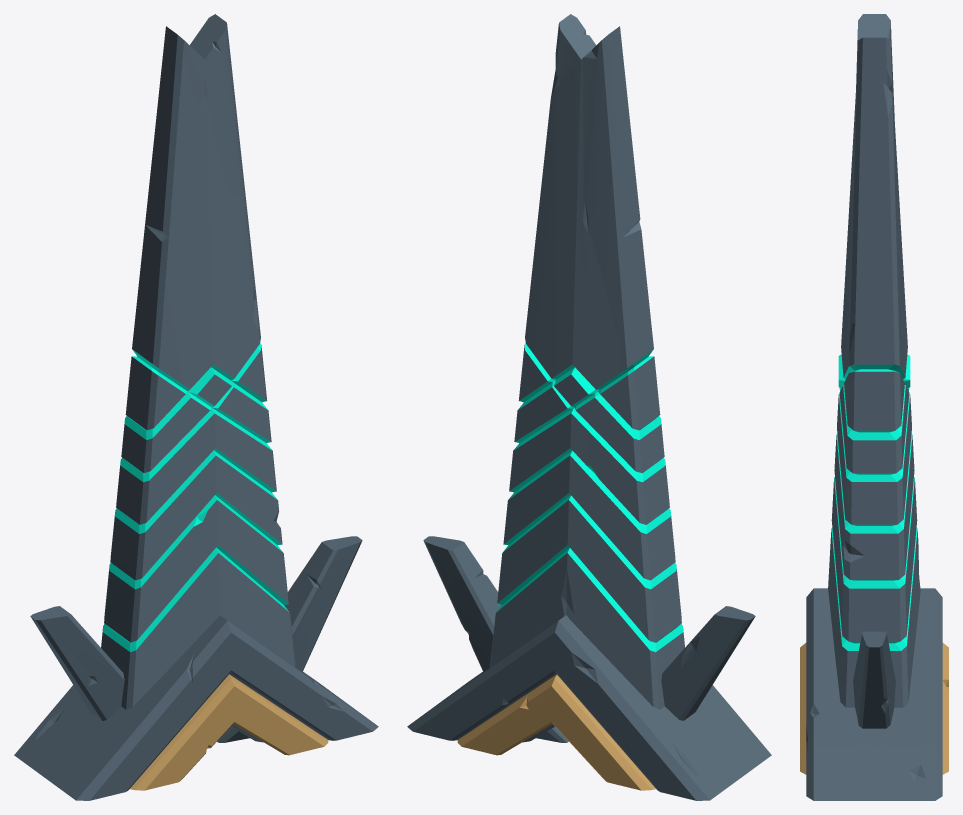
Rendered from worlds_SM_Env_Artifact_AlienRuin_03.gltf.
3 views of the same model, side by side, from view 1: azimuth 30°, elevation 25°; view 2: azimuth 150°, elevation 25°; view 3: azimuth 270°, elevation 25° (orthographic).
Parts seen in each view (by area): view 1: SM_Env_Artifact_AlienRuin_03; view 2: SM_Env_Artifact_AlienRuin_03; view 3: SM_Env_Artifact_AlienRuin_03.
Boxes of the visible parts, x1,y1,x2,y2 form: SM_Env_Artifact_AlienRuin_03: [14, 14, 378, 800]; SM_Env_Artifact_AlienRuin_03: [407, 14, 771, 800]; SM_Env_Artifact_AlienRuin_03: [800, 14, 948, 800].
Size of the model in its own units: 14.94 by 31.28 by 6.
Materials: 1 (1 with a texture image).
